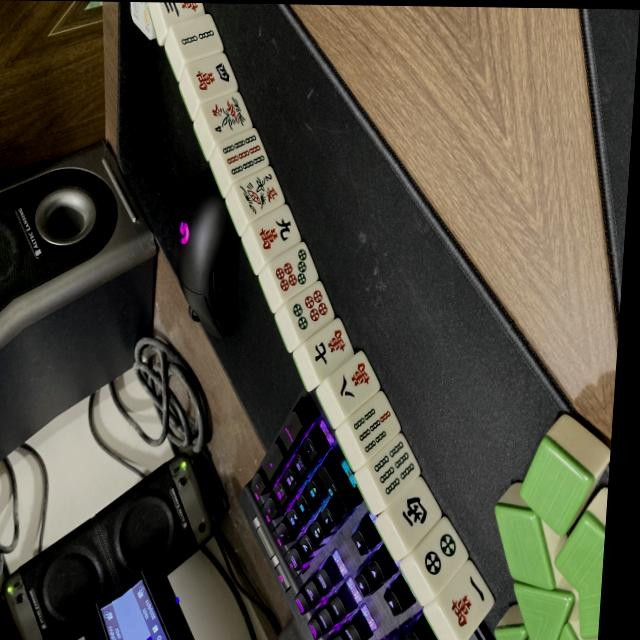ff2: (232, 165, 290, 222)
ff4: (199, 91, 255, 142)
m1: (431, 560, 498, 640)
m3: (156, 2, 206, 25)
m4: (184, 53, 240, 104)
m7: (301, 319, 361, 381)
m8: (324, 350, 386, 414)
m9: (248, 206, 305, 263)
s2: (173, 16, 227, 64)
s6: (363, 434, 427, 503)
s7: (342, 395, 406, 460)
s9: (217, 129, 272, 183)
t2: (405, 517, 474, 597)
t6: (281, 282, 340, 344)
t7: (265, 241, 325, 302)
west: (383, 475, 450, 550)
